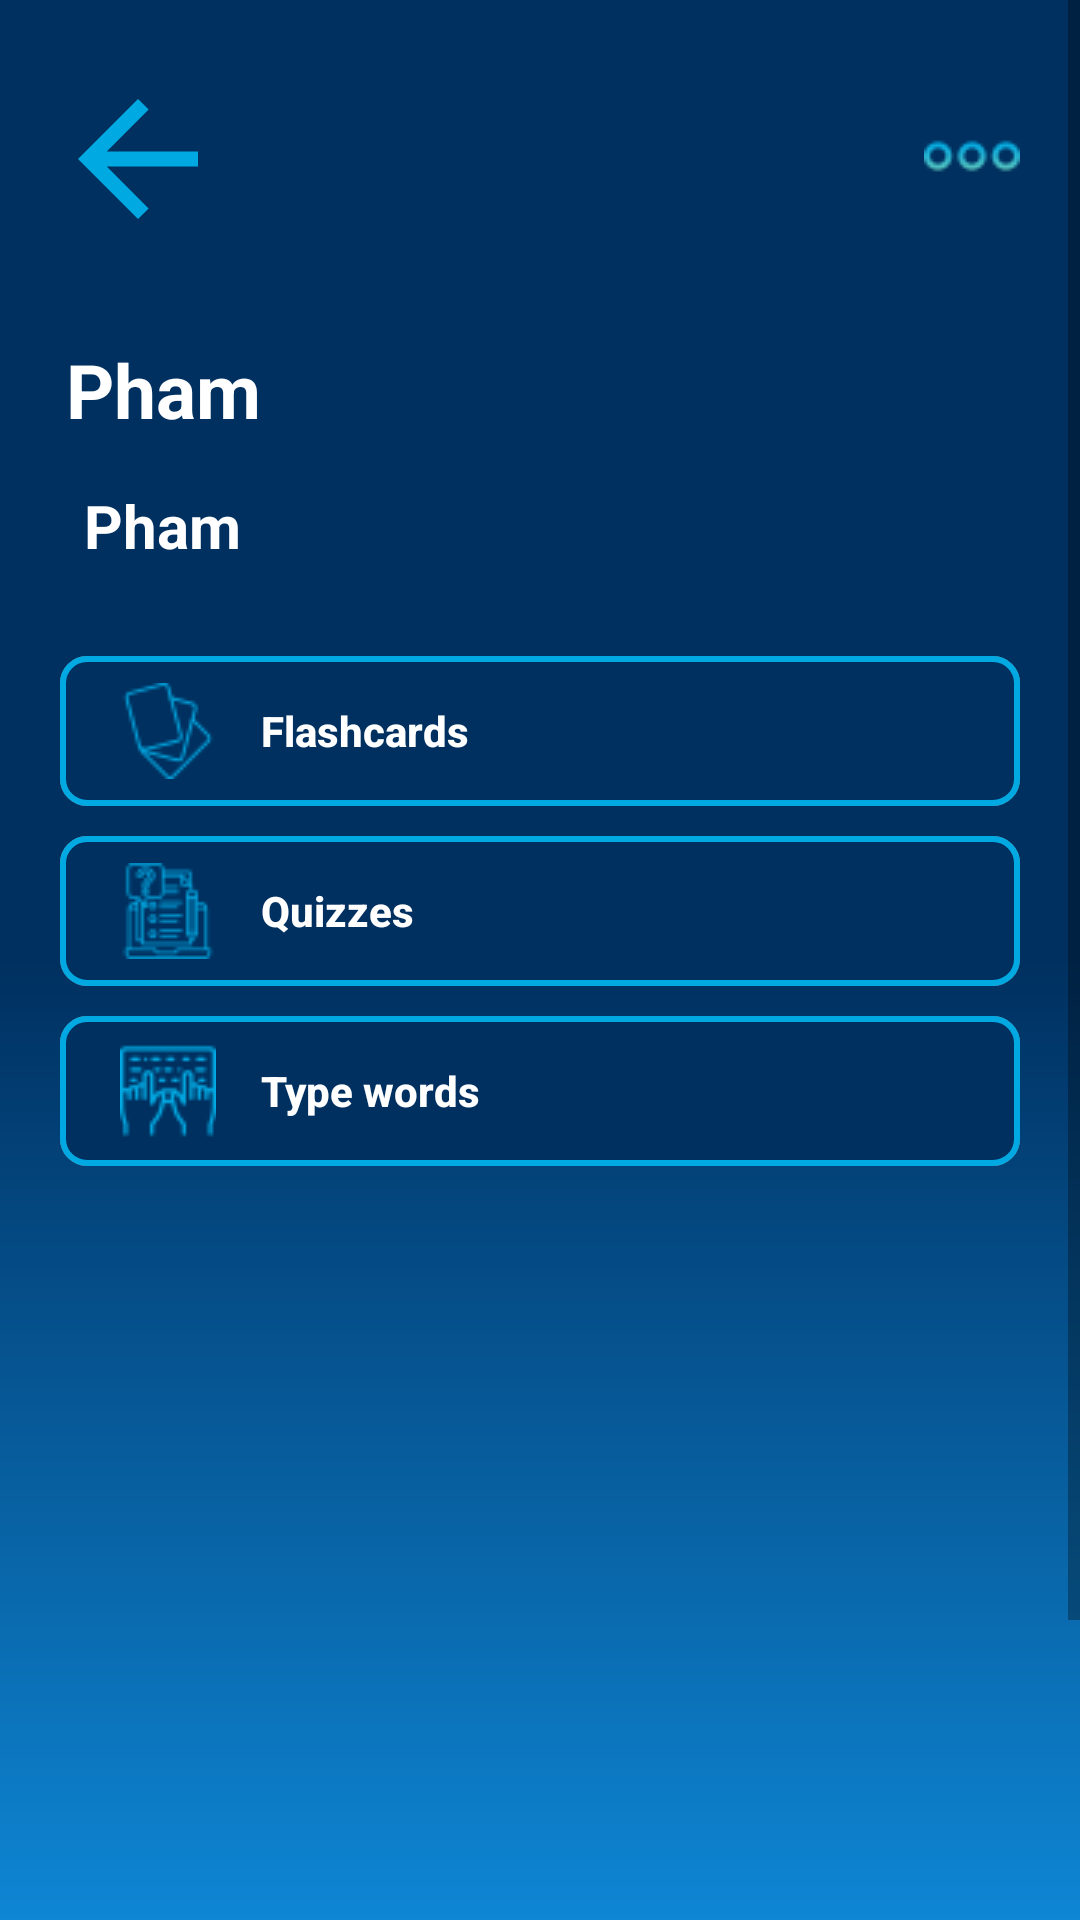

Screen size 1080px×1920px. Icon name, then its center in pixels as (x=x, y=y):
arrow back: (x=138, y=159)
more: (x=972, y=156)
